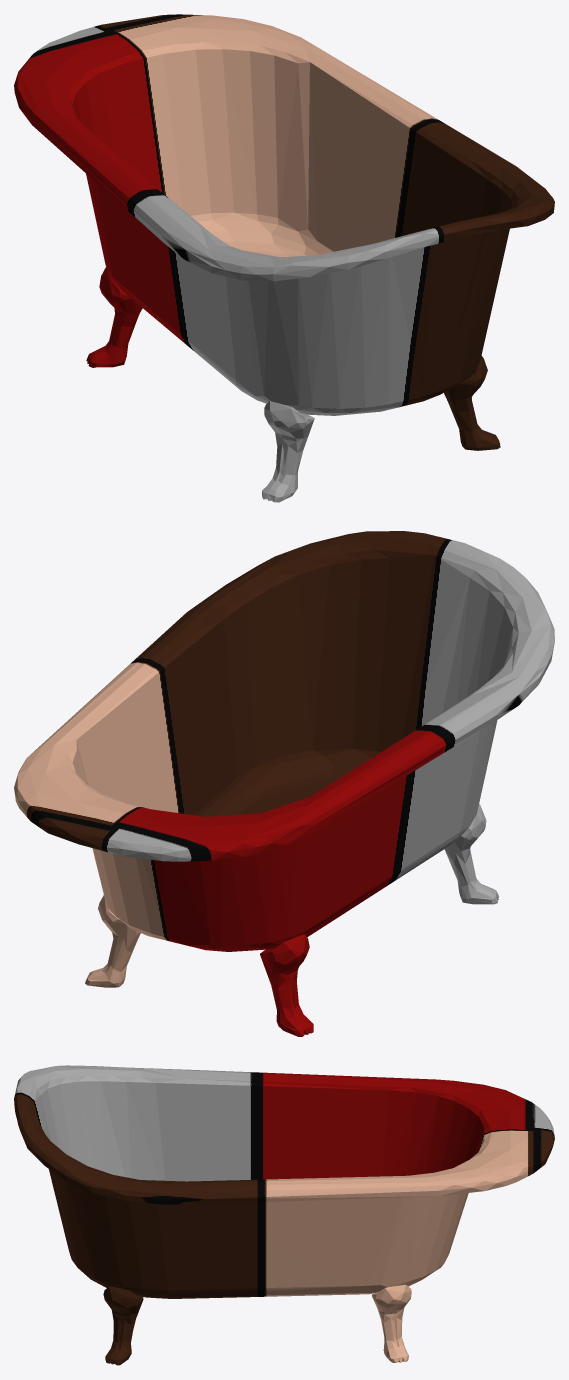
File: Bathtub.FBX
3 views of the same model, one above another, from view 1: azimuth 30°, elevation 25°; view 2: azimuth 150°, elevation 25°; view 3: azimuth 270°, elevation 25° (orthographic). The views are drawn at different scales.
Visible parts, largest first — view 1: Bathtub; view 2: Bathtub; view 3: Bathtub.
Part boxes in pixels (box(x1,y1,x2,y2)): Bathtub: box(14, 14, 554, 502); Bathtub: box(14, 531, 554, 1036); Bathtub: box(14, 1065, 554, 1365).
Size of the model in its own units: 1006 by 834 by 1814.
1 material, 1 textured.
